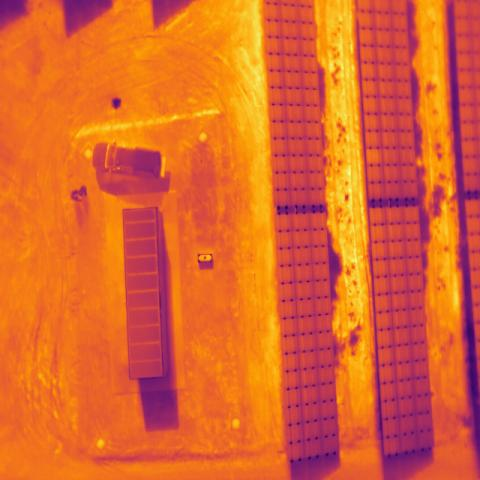fault: (366, 148, 384, 167)
